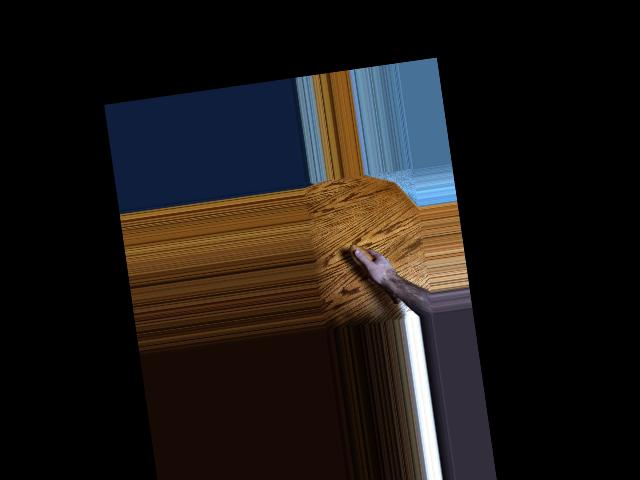sweet_potato: (349, 238, 402, 311)
